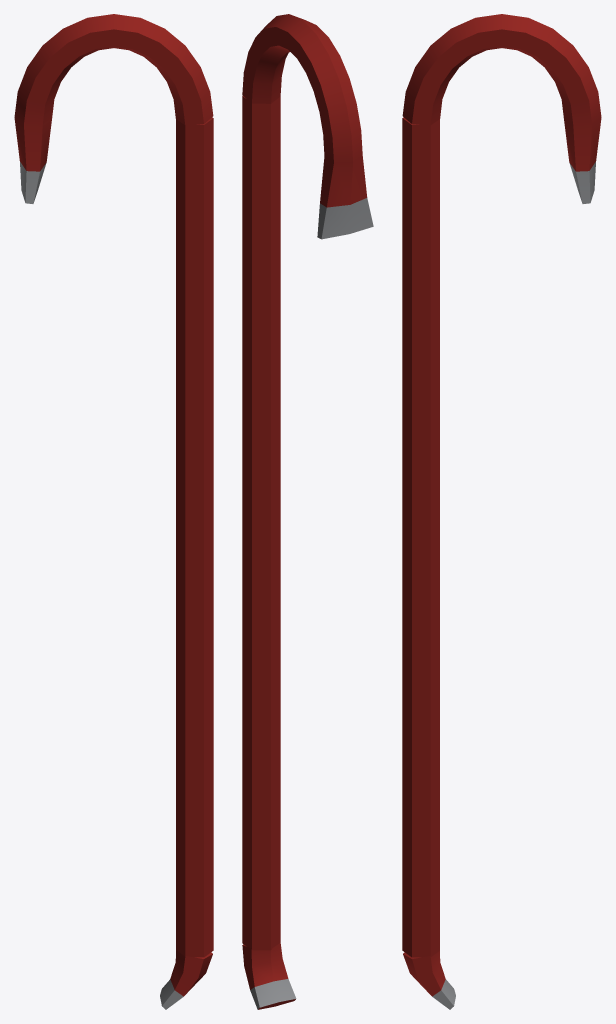
Rendered from wpn_melee_crowbar.glb.
3 views of the same model, side by side, from view 1: azimuth 90°, elevation 25°; view 2: azimuth 210°, elevation 25°; view 3: azimuth 270°, elevation 25° (orthographic).
Parts seen in each view (by area): view 1: Handle, Head; view 2: Handle, Head; view 3: Handle, Head.
Part boxes in pixels (bbox=[...]): Handle: bbox=[176, 117, 213, 957]; Head: bbox=[14, 14, 213, 1009]; Handle: bbox=[242, 96, 280, 950]; Head: bbox=[242, 14, 373, 1009]; Handle: bbox=[402, 117, 439, 957]; Head: bbox=[402, 14, 601, 1009].
Size of the model in its own units: 0.0308 by 0.5679 by 0.1036.
